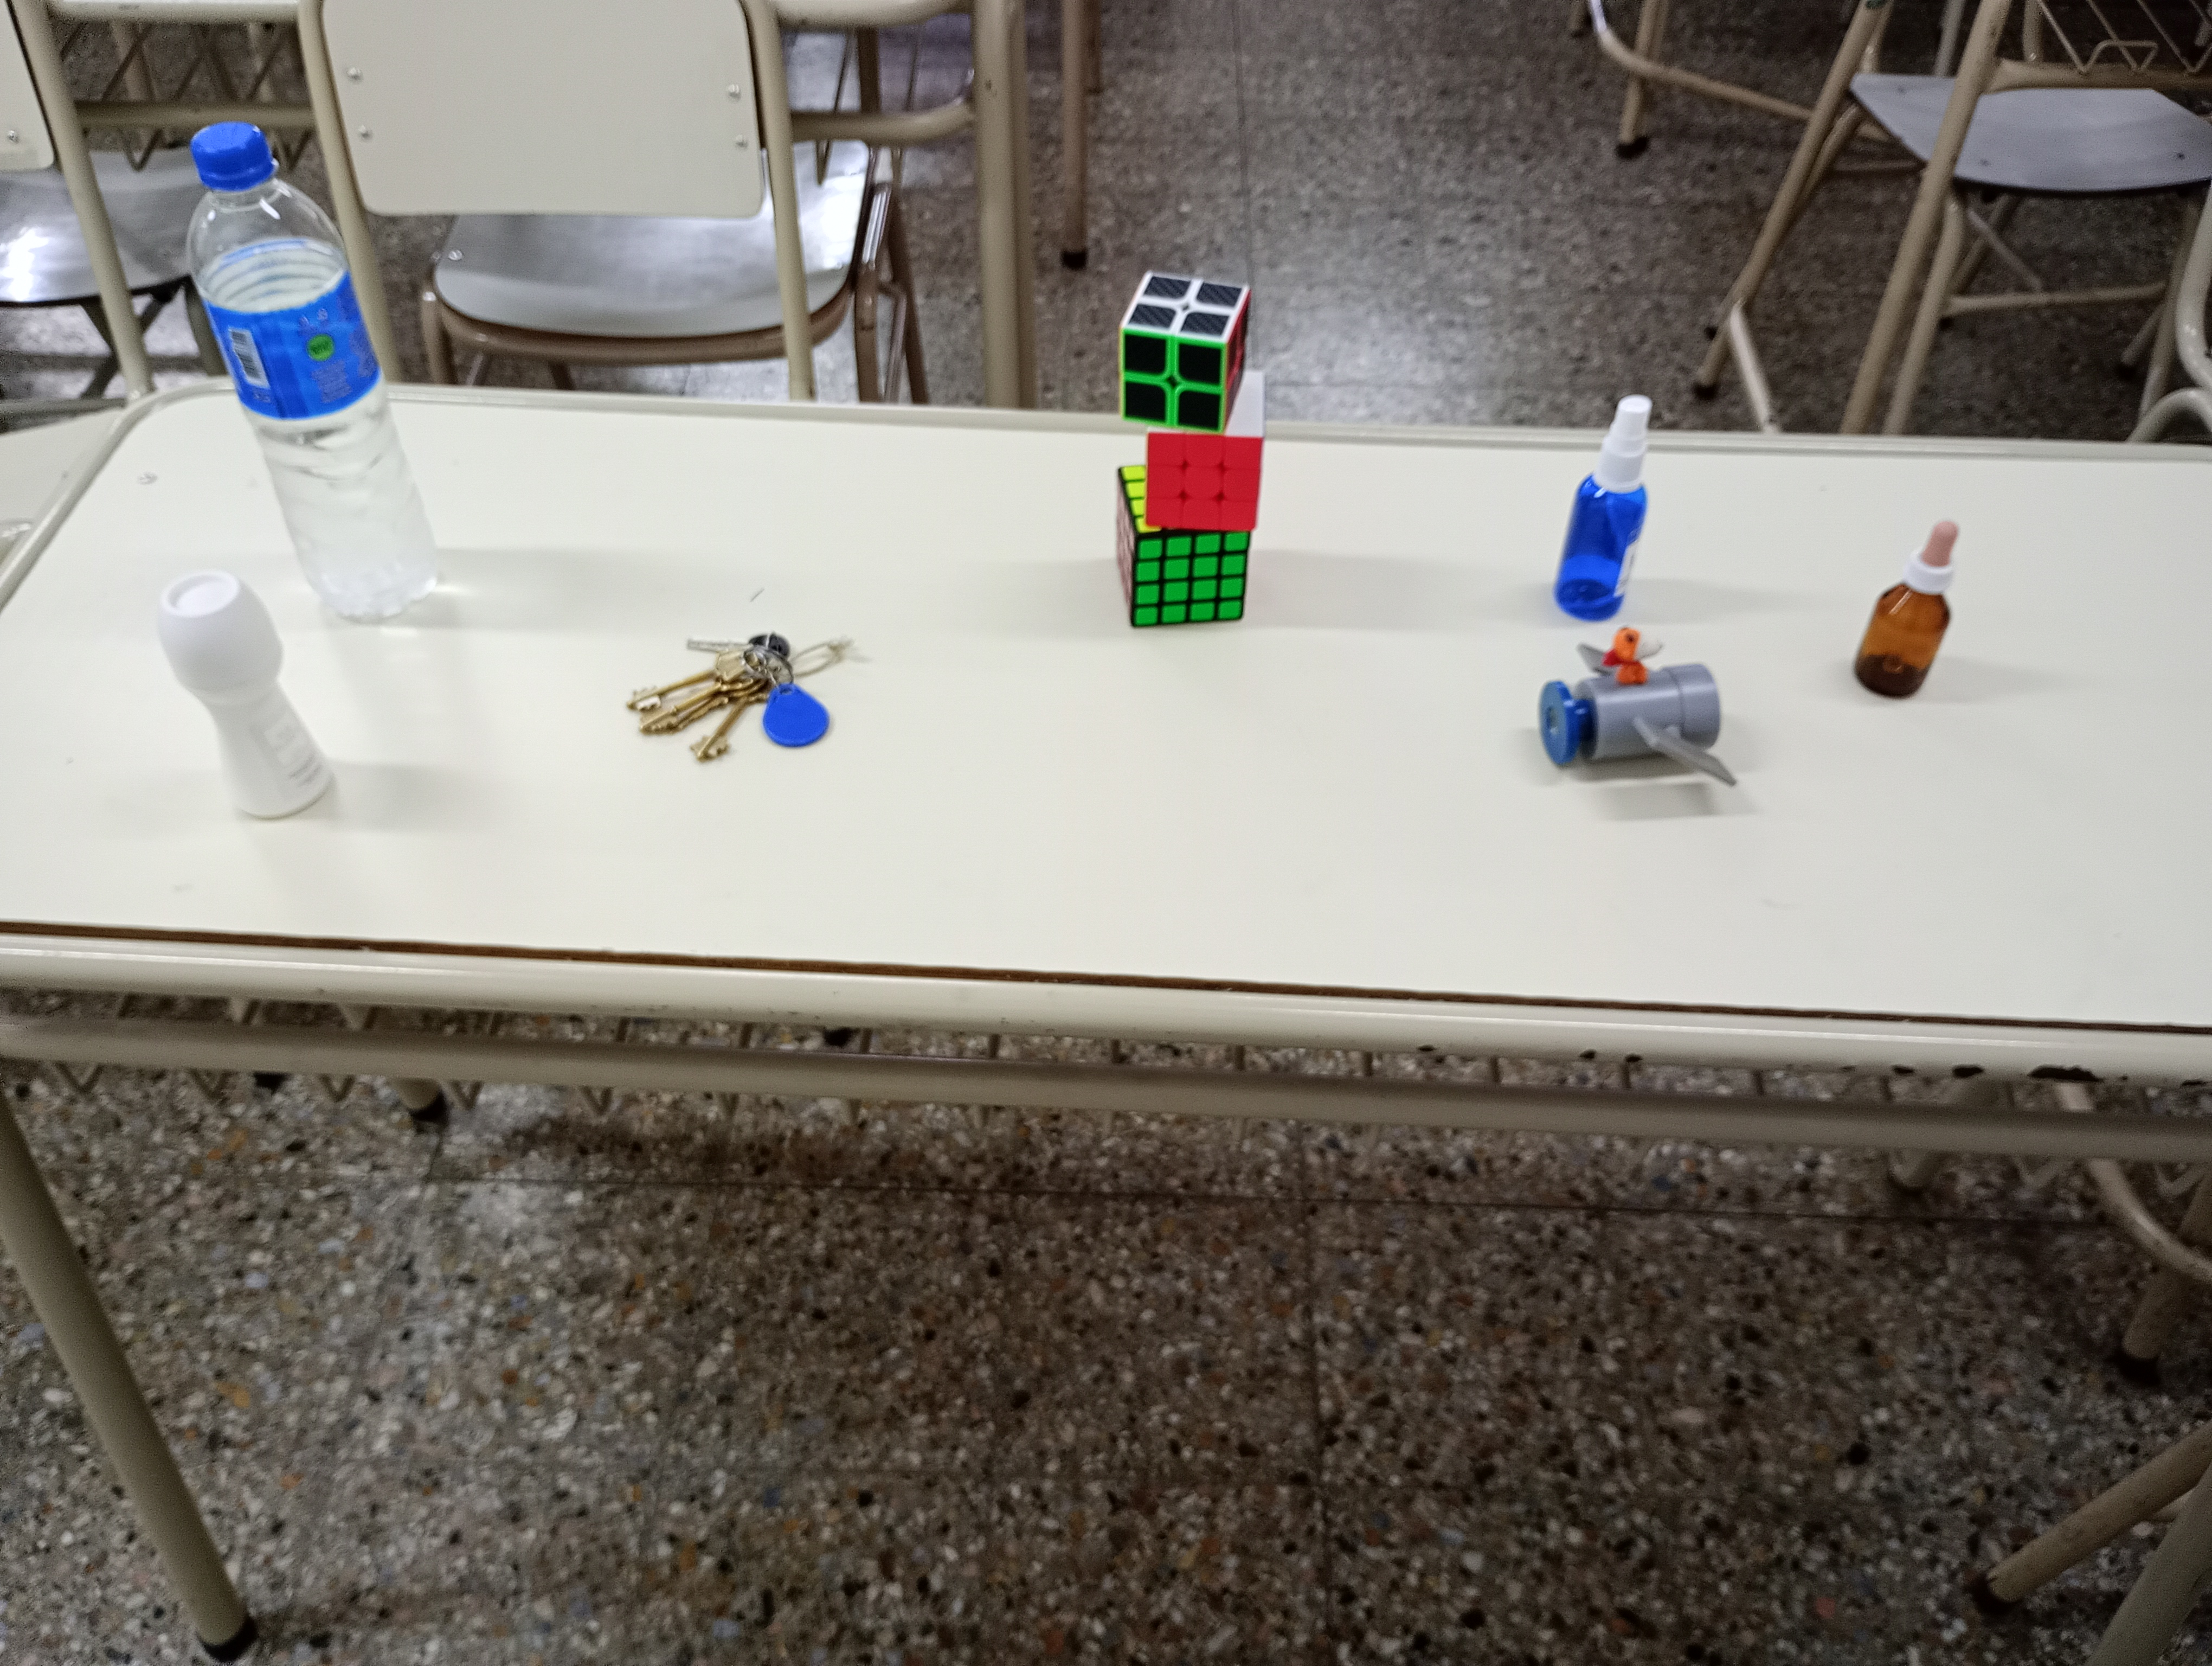remedio: (1843, 516, 1974, 705)
